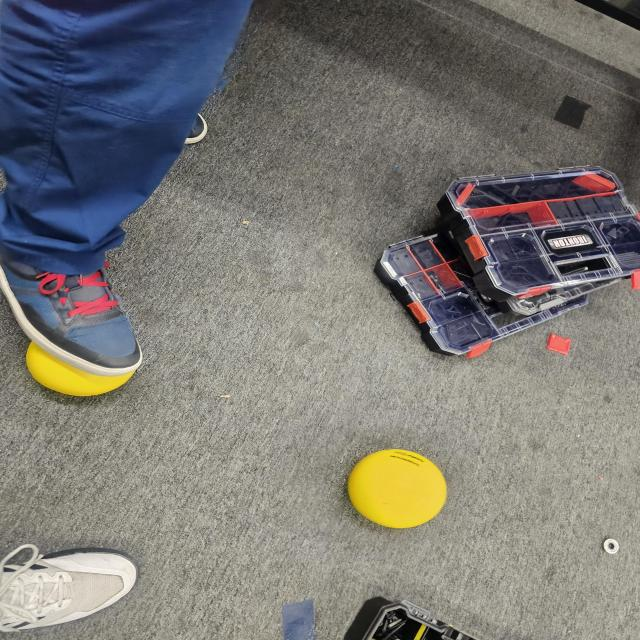Fuel: (342, 444, 455, 536), (21, 333, 150, 403)
